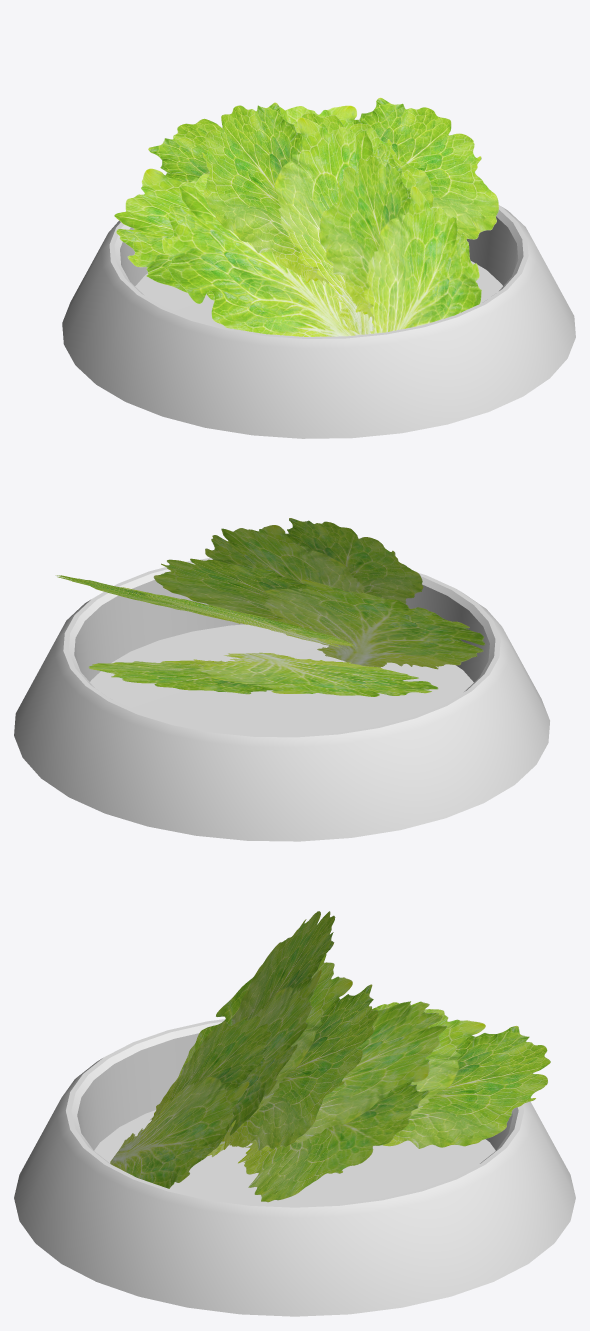
The model's file is LettuceBowl.fbx.
The picture shows the model from 3 angles, top to bottom: view 1: azimuth 30°, elevation 25°; view 2: azimuth 150°, elevation 25°; view 3: azimuth 270°, elevation 25°; orthographic projection. The views are drawn at different scales.
Parts seen in each view (by area): view 1: LettuceBowl; view 2: LettuceBowl; view 3: LettuceBowl.
Part boxes in pixels (x1,y1,x2,y2): LettuceBowl: (62, 97, 575, 438); LettuceBowl: (14, 518, 549, 841); LettuceBowl: (14, 911, 575, 1316).
Bounding box in the file's own units: 10.86 × 6.76 × 10.61.
2 materials, 1 textured.
